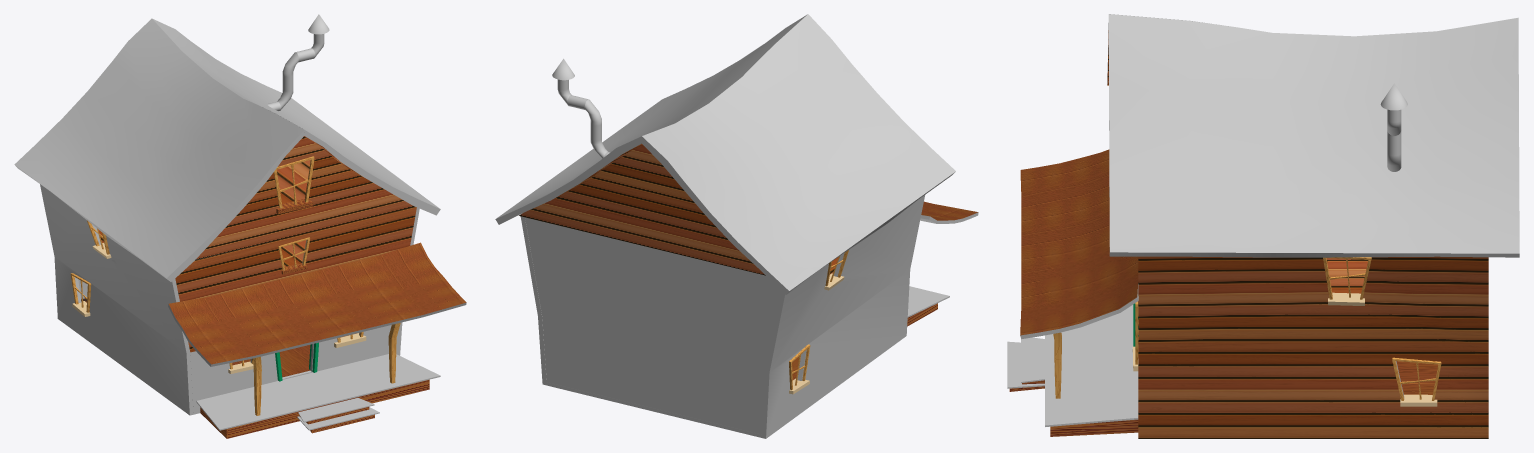
The model's file is casa.obj.
3 views of the same model, side by side, from view 1: azimuth 30°, elevation 25°; view 2: azimuth 150°, elevation 25°; view 3: azimuth 270°, elevation 25° (orthographic). The views are drawn at different scales.
Parts seen in each view (by area): view 1: pasted__pCylinder2; view 2: pasted__pCylinder2; view 3: pasted__pCylinder2.
Boxes of the visible parts, x1,y1,x2,y2 form: pasted__pCylinder2: [14, 14, 466, 438]; pasted__pCylinder2: [495, 14, 978, 438]; pasted__pCylinder2: [1007, 14, 1519, 438].
Bounding box in the file's own units: 26.95 × 25.67 × 32.55.
